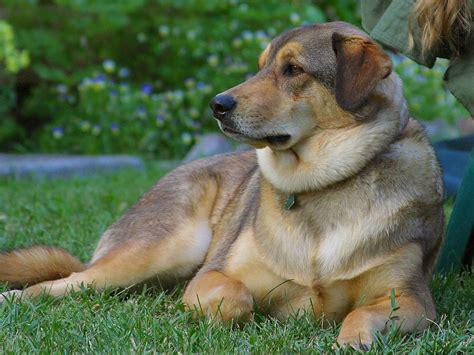dog: (1, 21, 443, 348)
